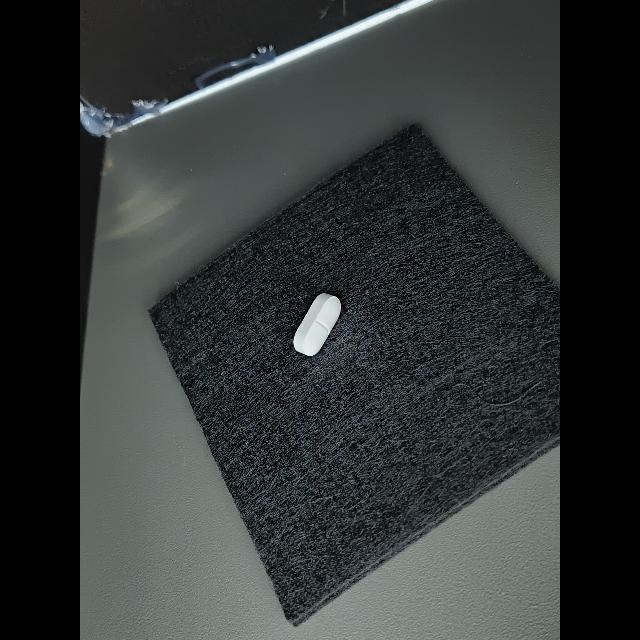Intact Pill: (293, 293, 341, 356)
